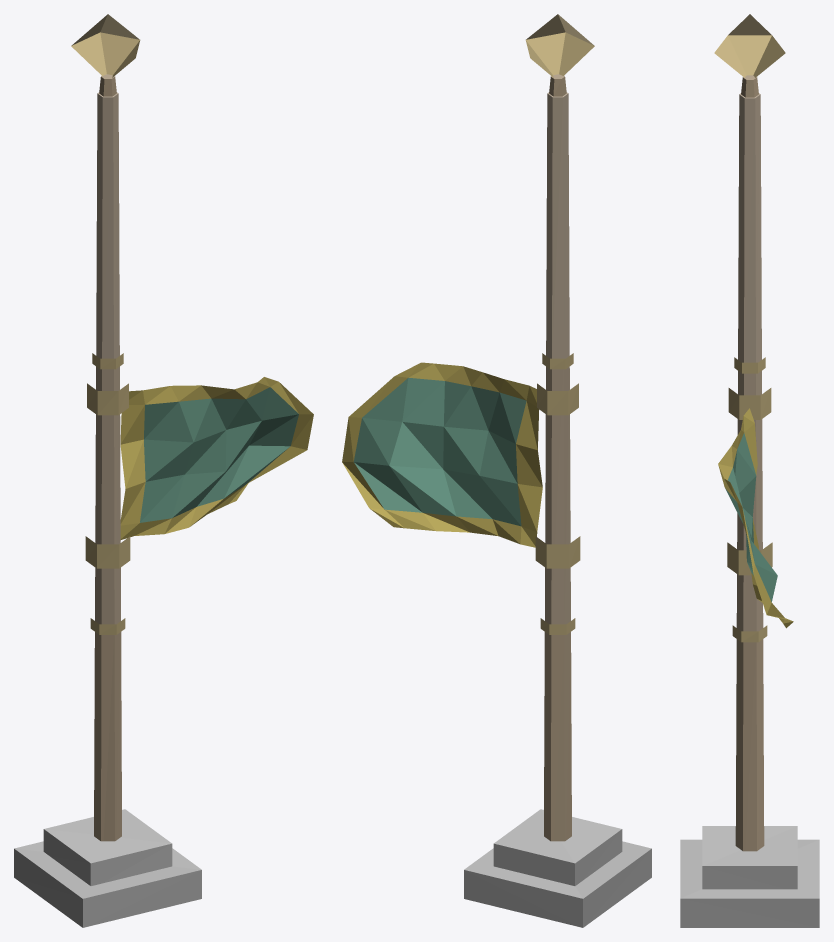
File: flag.roundFly.cuiqi__pole.ground.gaogan__midmast.glb
3 renders of one model, left to right at view 1: azimuth 30°, elevation 25°; view 2: azimuth 150°, elevation 25°; view 3: azimuth 270°, elevation 25°, orthographic.
Parts seen in each view (by area): view 1: flag.roundFly.cuiqi; view 2: flag.roundFly.cuiqi; view 3: flag.roundFly.cuiqi.
Boxes of the visible parts, box(x1,y1,x2,y2) form: flag.roundFly.cuiqi: box(14, 14, 313, 927); flag.roundFly.cuiqi: box(342, 14, 651, 927); flag.roundFly.cuiqi: box(680, 14, 819, 927).
Size of the model in its own units: 1.83 by 5.72 by 0.816.
